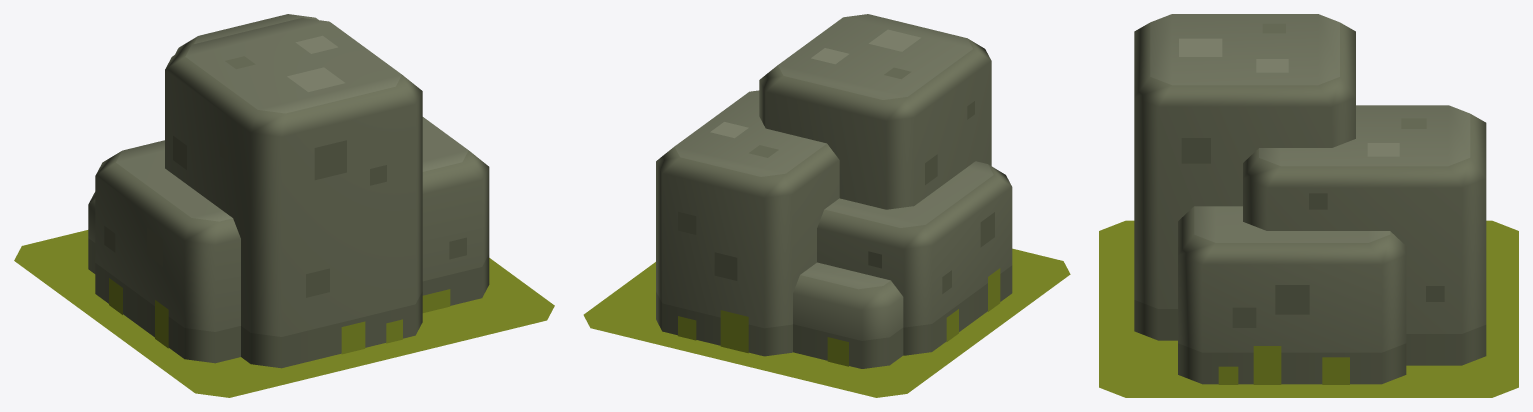
File: B_grass2_rock01.fbx
3 renders of one model, left to right at view 1: azimuth 30°, elevation 25°; view 2: azimuth 150°, elevation 25°; view 3: azimuth 270°, elevation 25°, orthographic. The views are drawn at different scales.
Visible parts, largest first — view 1: model 1; view 2: model 1; view 3: model 1.
Part boxes in pixels (x1,y1,x2,y2): model 1: (14, 14, 554, 397); model 1: (583, 14, 1070, 397); model 1: (1099, 14, 1518, 397).
Size of the model in its own units: 3.43 by 2.28 by 3.43.
